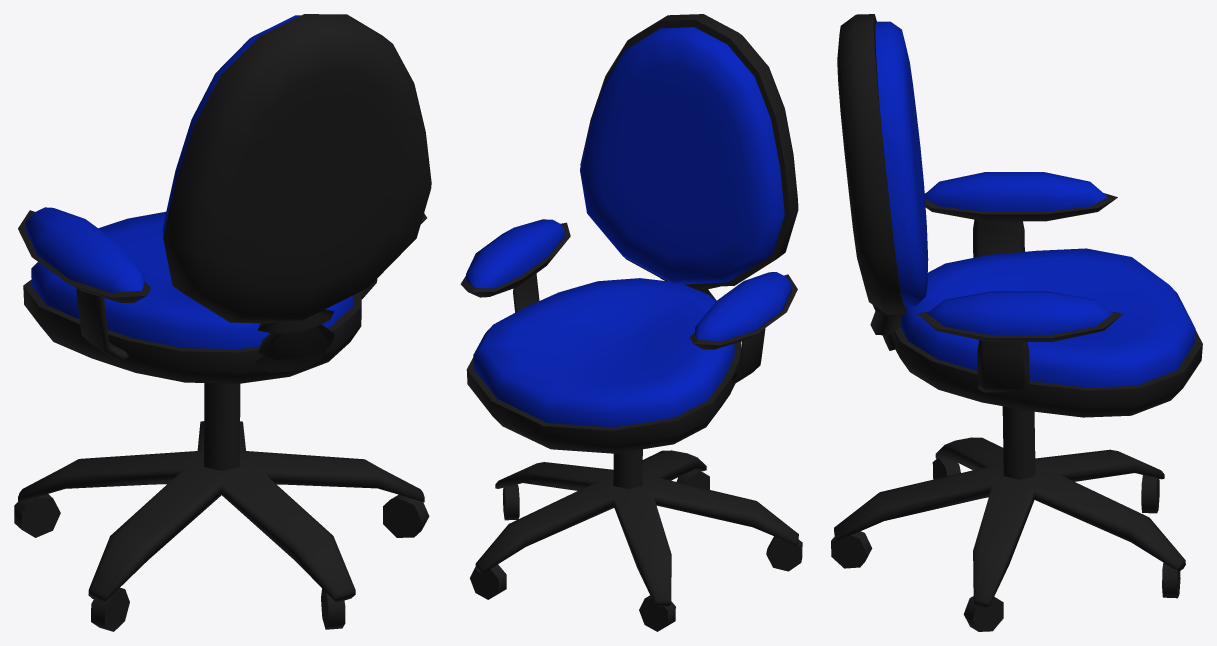
Rendered from Office_Chair.fbx.
The picture shows the model from 3 angles, left to right: view 1: azimuth 30°, elevation 25°; view 2: azimuth 150°, elevation 25°; view 3: azimuth 270°, elevation 25°; orthographic projection. The views are drawn at different scales.
Parts seen in each view (by area): view 1: Cylinder005; view 2: Cylinder005; view 3: Cylinder005.
Boxes of the visible parts, x1,y1,x2,y2 form: Cylinder005: [14, 14, 431, 631]; Cylinder005: [460, 14, 802, 631]; Cylinder005: [831, 14, 1202, 631].
Size of the model in its own units: 39.84 by 65.01 by 40.82.
